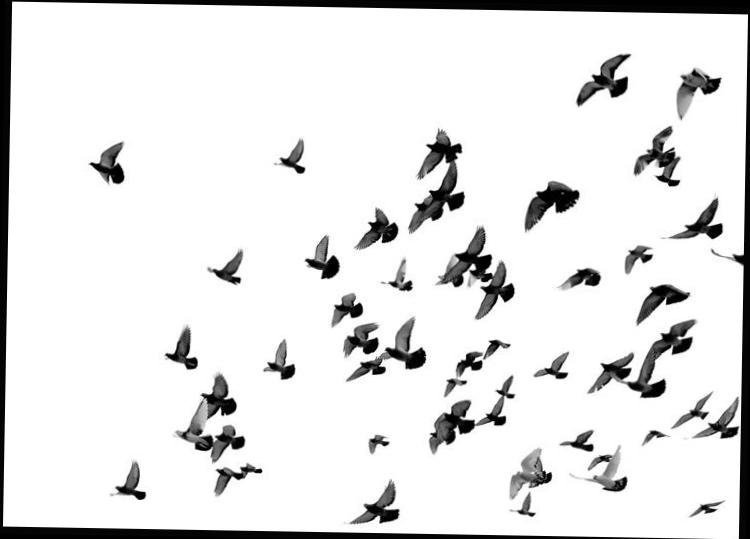bird: (251, 125, 332, 182), (74, 127, 144, 192), (134, 312, 203, 371), (197, 223, 250, 289), (103, 440, 151, 505), (550, 259, 611, 299), (355, 430, 395, 458)
